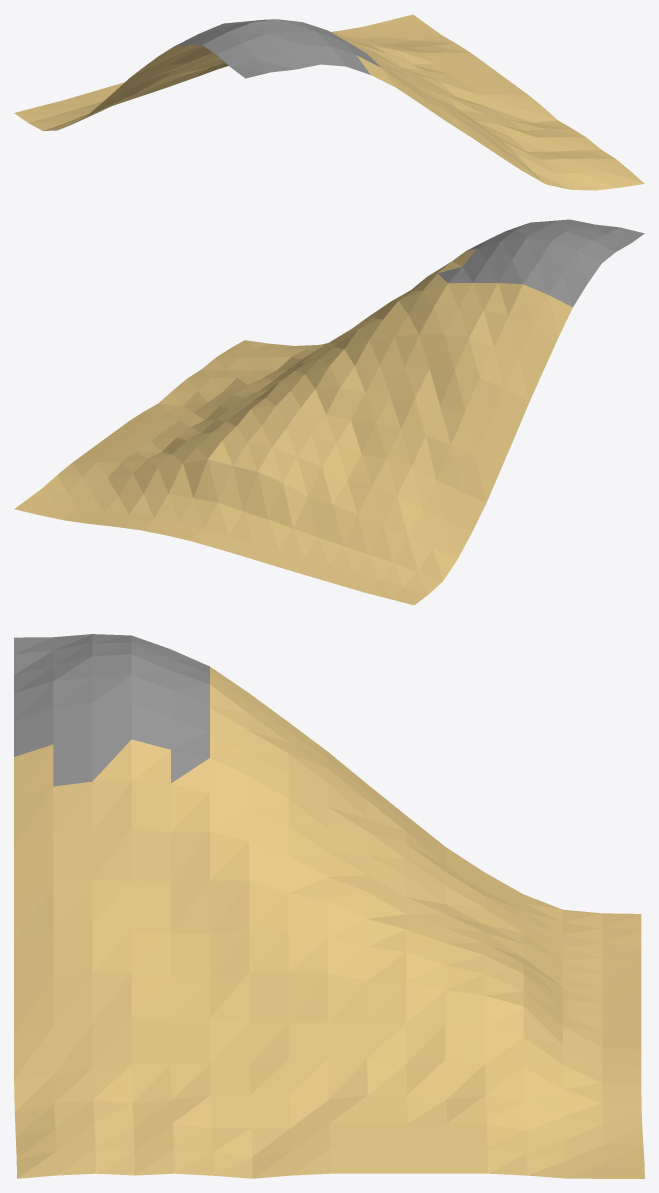
Rendered from ground9.fbx.
The picture shows the model from 3 angles, top to bottom: view 1: azimuth 30°, elevation 25°; view 2: azimuth 150°, elevation 25°; view 3: azimuth 270°, elevation 25°; orthographic projection. The views are drawn at different scales.
Visible parts, largest first — view 1: Plane; view 2: Plane; view 3: Plane.
Part boxes in pixels (x1=…): Plane: x1=14, y1=14, x2=644, y2=190; Plane: x1=14, y1=219, x2=644, y2=605; Plane: x1=14, y1=634, x2=644, y2=1178.
Bounding box in the file's own units: 99.9 × 51.51 × 101.
1 material, 1 textured.
